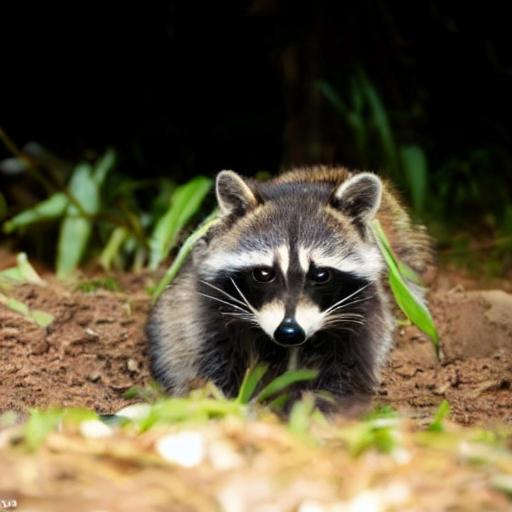raccoon: (138, 153, 438, 428)
